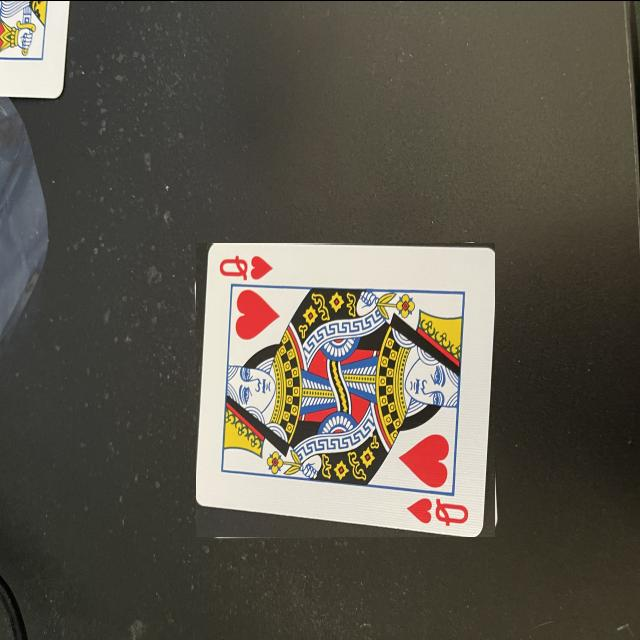Queen of hearts: (196, 243, 495, 535)
